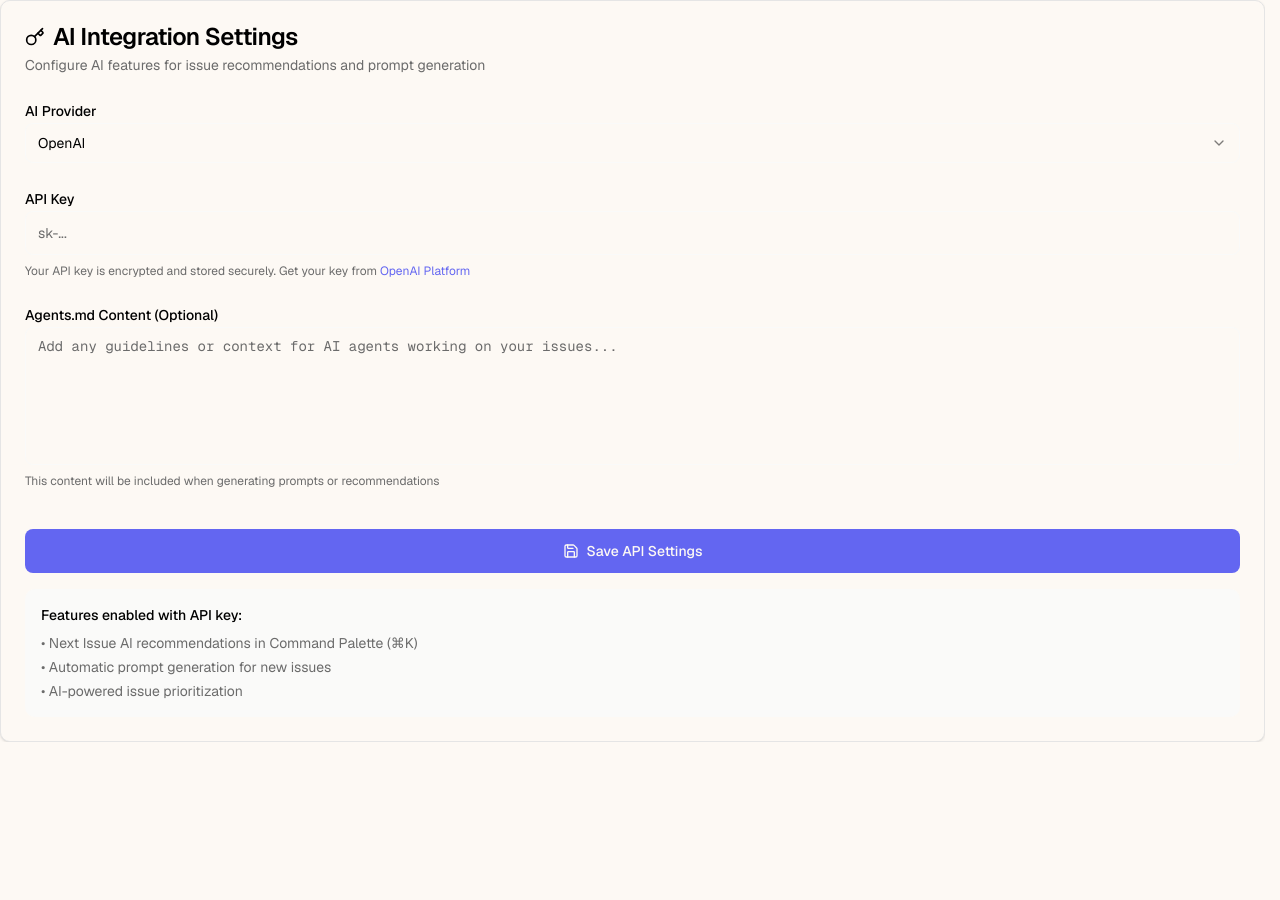
Test: ApiSettings › saving settings › should handle save errors
This screenshot has width=1280, height=900.
Click the button "Save API Settings" at (632, 551), box 25,529 -> 1240,573
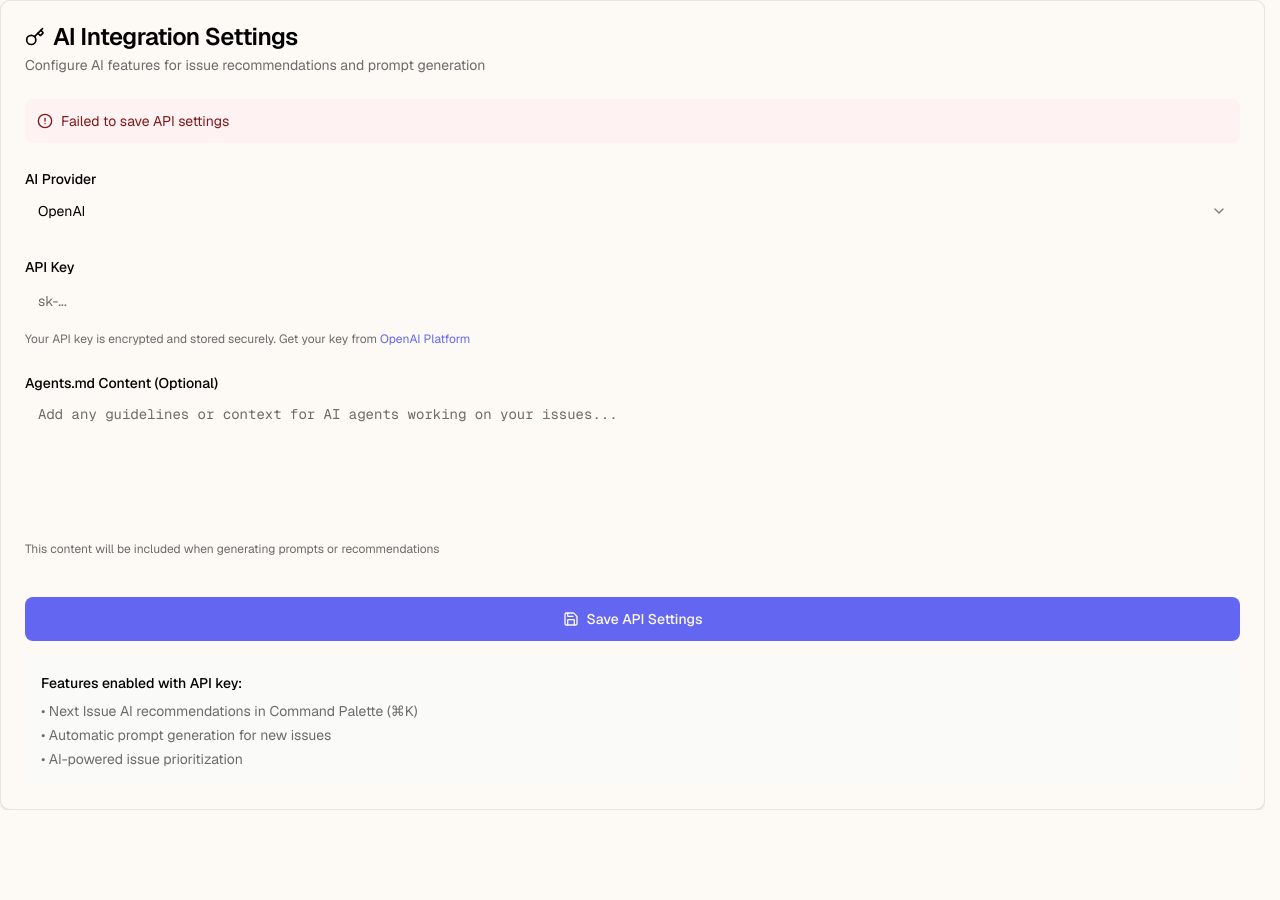
Now the text "Failed to save API settings" is shown, box 61,111 -> 229,131
